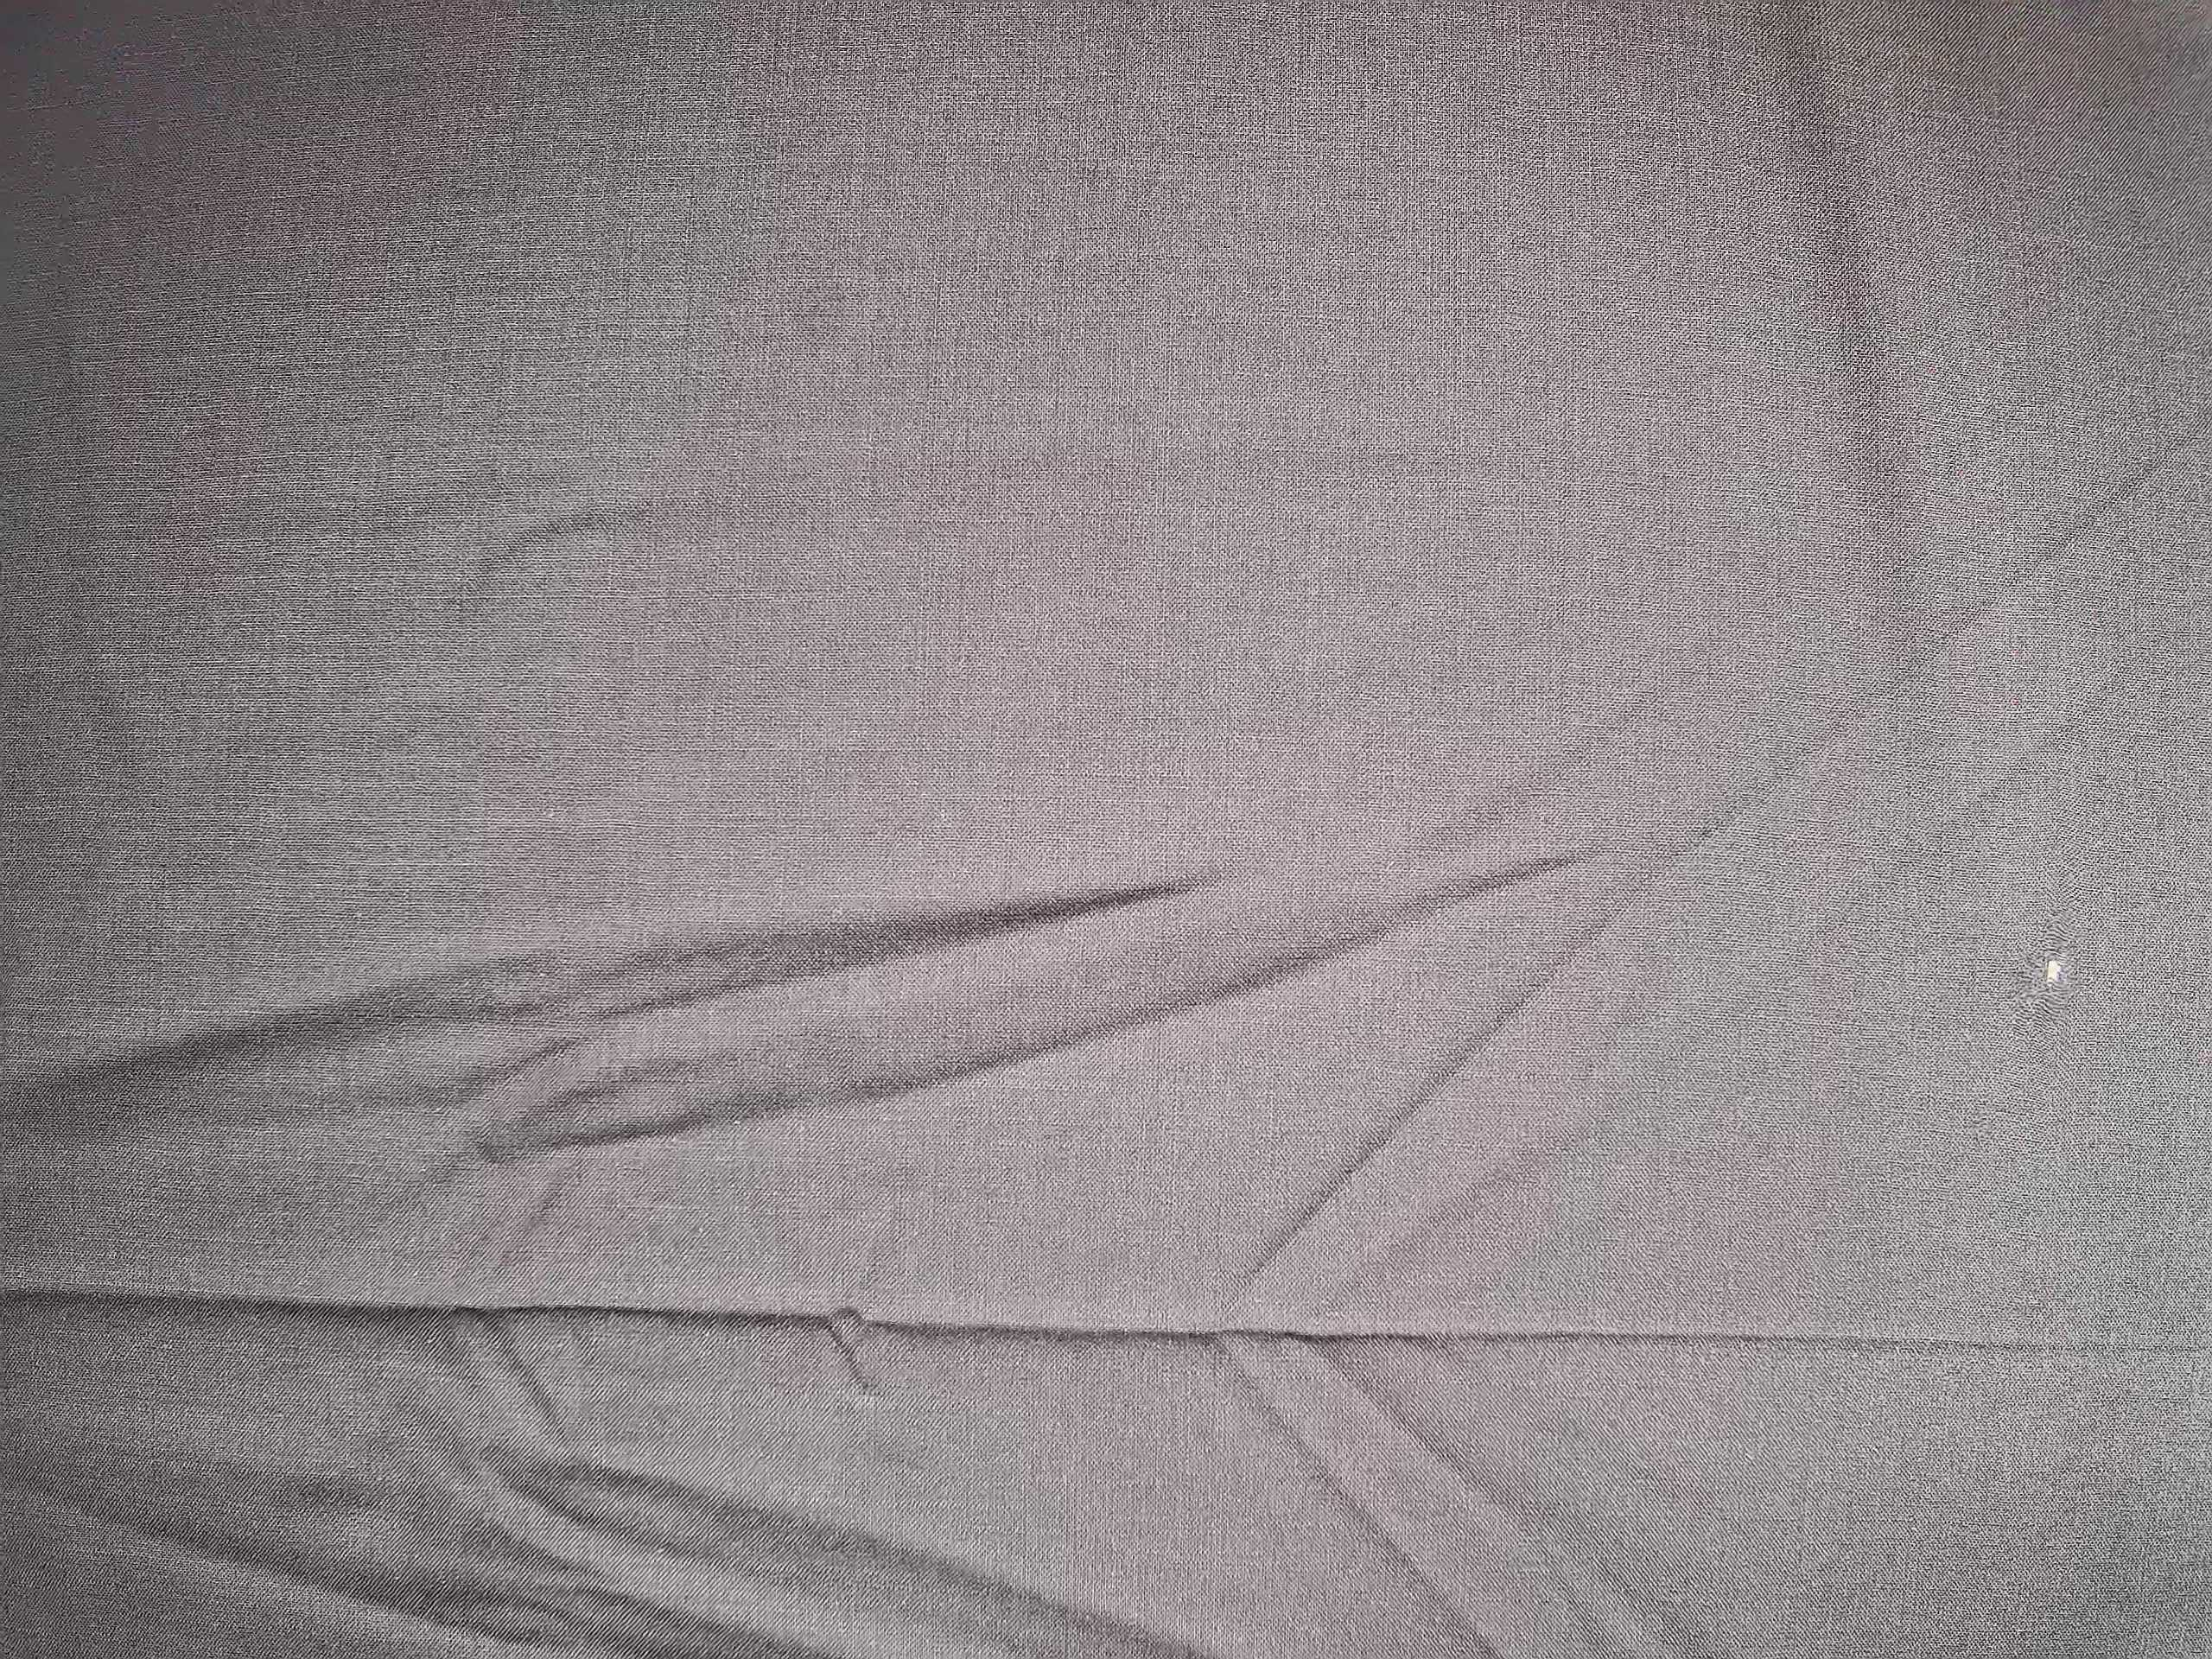brushed-hole: (2003, 924, 2102, 1025)
